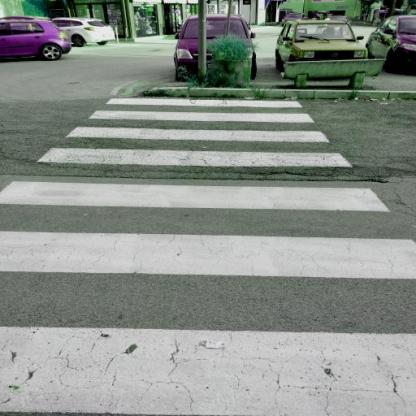crosswalk: (0, 179, 416, 286), (58, 107, 334, 145)
